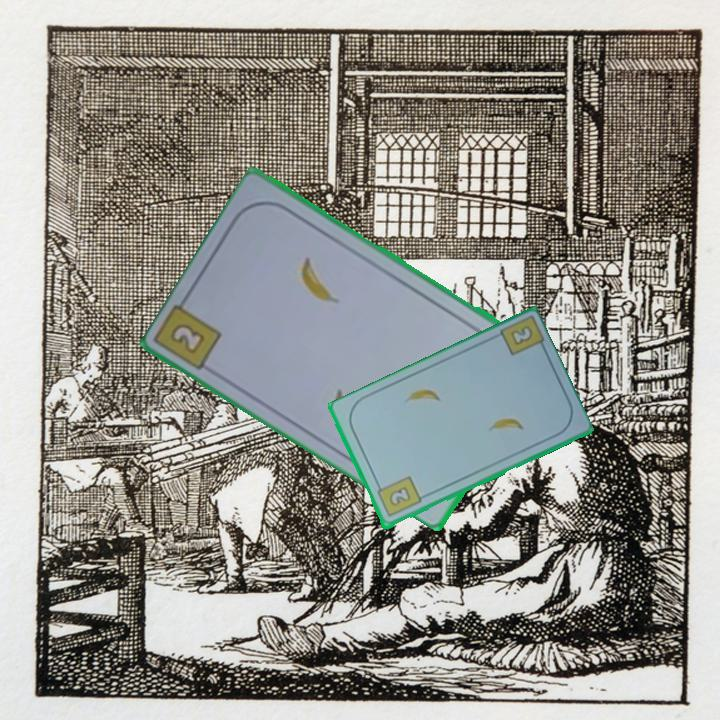2b: (373, 473, 424, 520), (165, 319, 209, 357), (507, 322, 536, 349)
